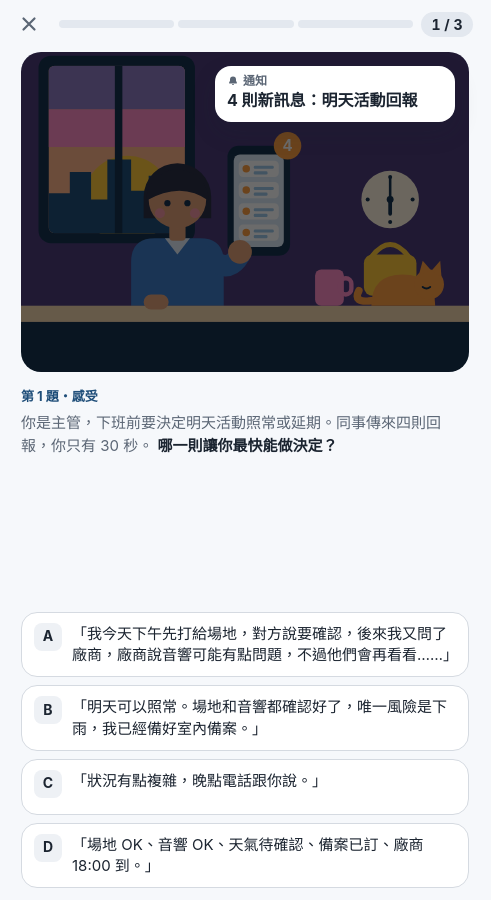
it: 出題畫面 › 點選項立刻送出第 1 步：只留所選項和一句話，不洩漏正解
This screenshot has width=491, height=900.
What coordinates should you click on to do the following:
click the button "A 「我今天下午先打給場地，對方說要確認，後來我又問了廠商，廠商說音響可能有點問題，不過他們會再看看……」"
I would click on:
 (245, 644)
Its box is [21,612,469,677].
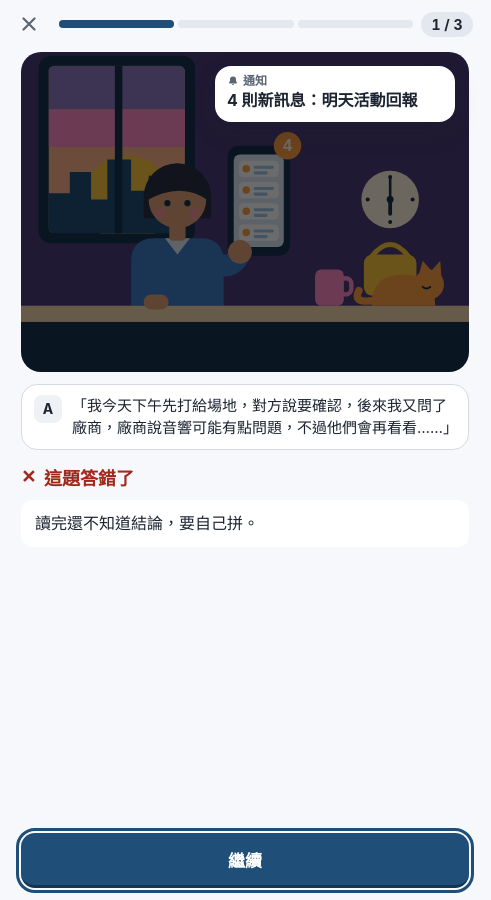
Check: the list "選項" is gone
Check: the message shows "這題答錯了", box [44,468,134,488]
Check: the message shows "讀完還不知道結論，要自己拼。", box [35,512,259,532]
